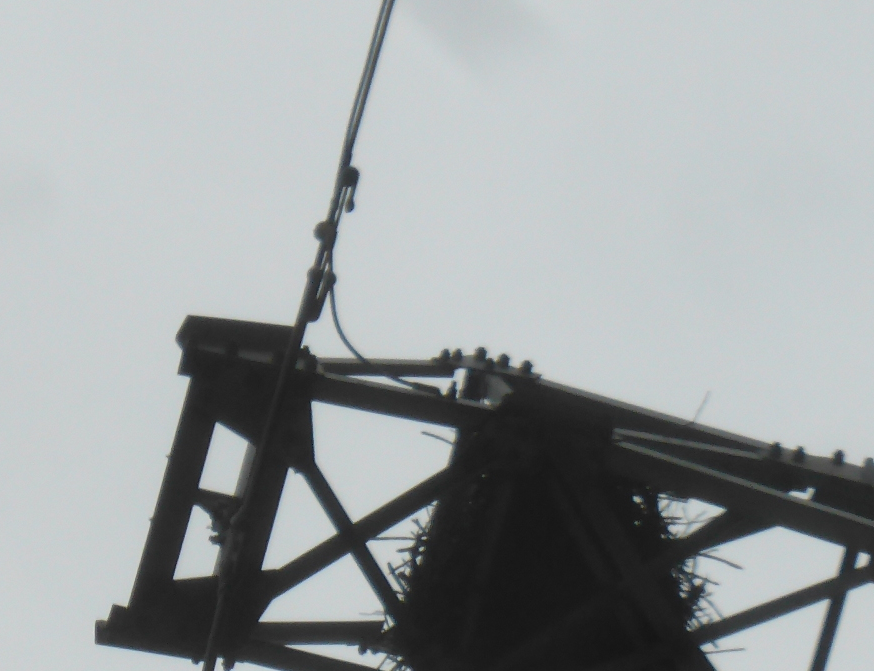damper: (302, 164, 359, 326)
